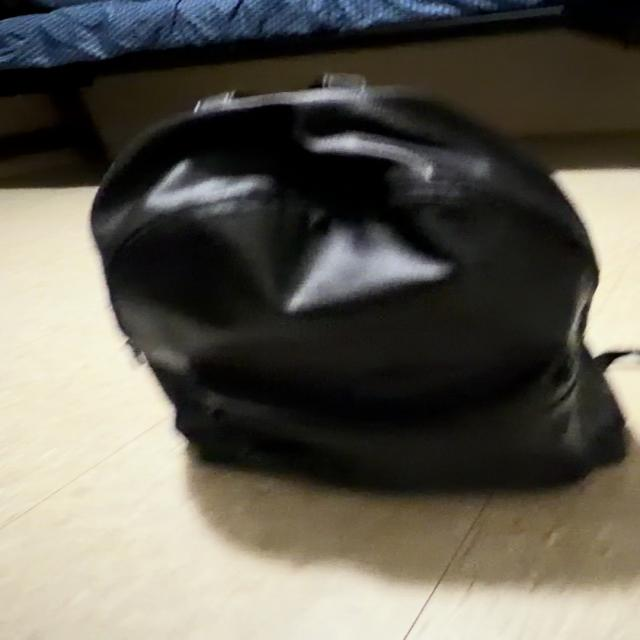backpack: (92, 82, 626, 490)
